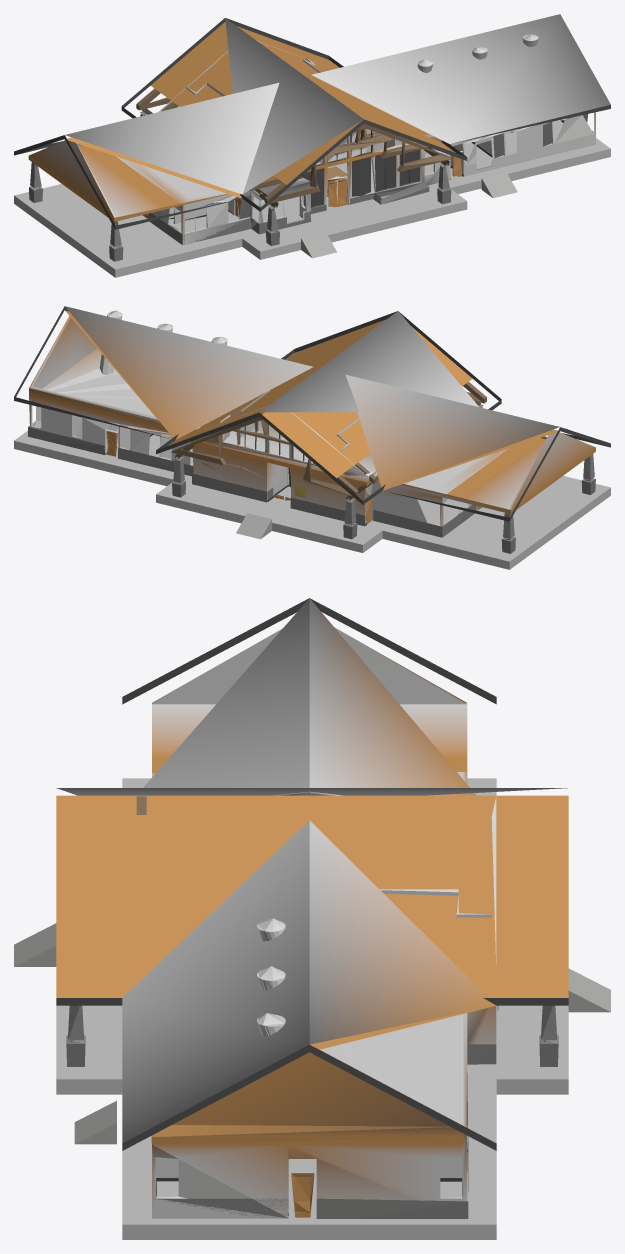
Rendered from terminal.zfix-v1.lod1.glb.
3 views of the same model, one above another, from view 1: azimuth 30°, elevation 25°; view 2: azimuth 150°, elevation 25°; view 3: azimuth 270°, elevation 25° (orthographic). The views are drawn at different scales.
Visible parts, largest first — view 1: Mesh1_Metal_Aluminum_Anodized_0; view 2: Mesh1_Metal_Aluminum_Anodized_0; view 3: Mesh1_Metal_Aluminum_Anodized_0.
Boxes of the visible parts, box(x1,y1,x2,y2) form: Mesh1_Metal_Aluminum_Anodized_0: box(14, 14, 610, 277); Mesh1_Metal_Aluminum_Anodized_0: box(14, 306, 610, 569); Mesh1_Metal_Aluminum_Anodized_0: box(14, 598, 610, 1239).
Size of the model in its own units: 40 by 8.9 by 22.6.
